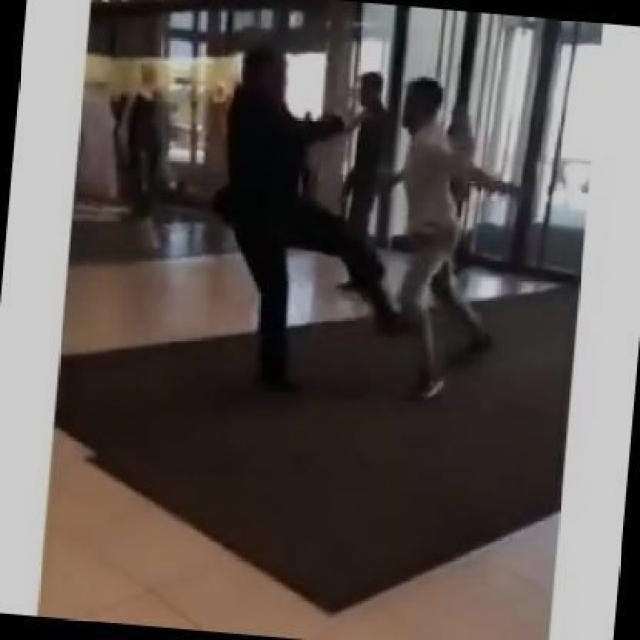fight: (192, 26, 549, 437)
